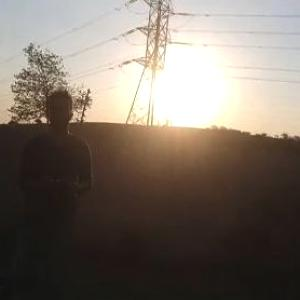follow: (9, 82, 98, 299)
